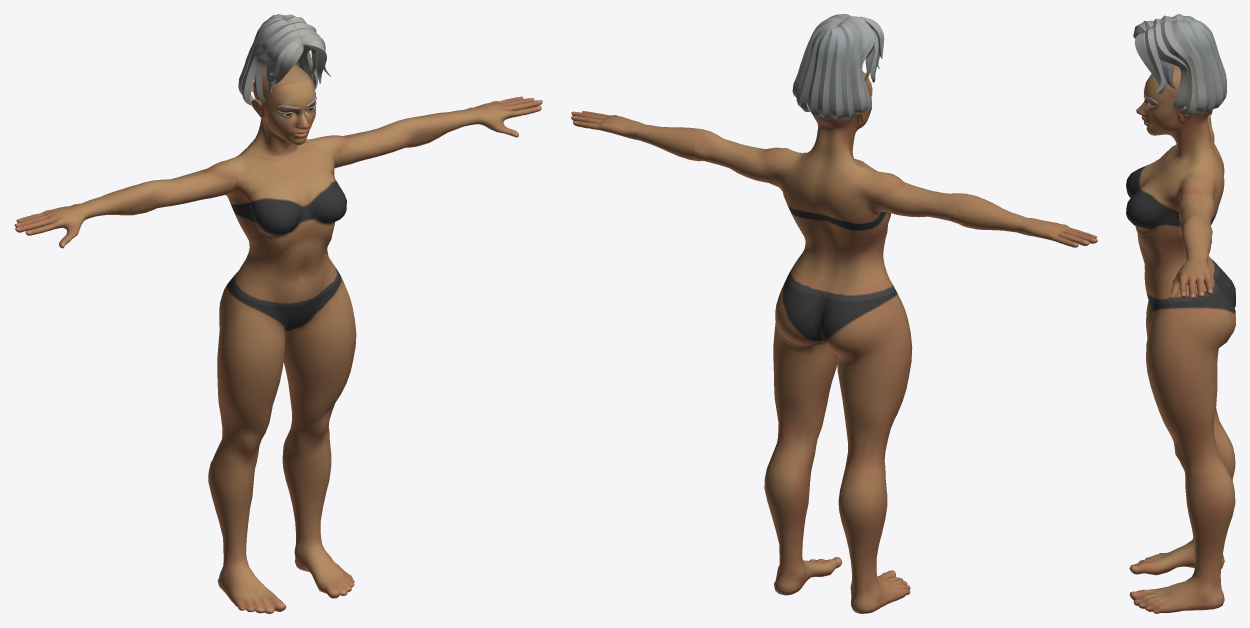
File: character-female-f.glb
The picture shows the model from 3 angles, left to right: view 1: azimuth 30°, elevation 25°; view 2: azimuth 150°, elevation 25°; view 3: azimuth 270°, elevation 25°; orthographic projection.
Visible parts, largest first — view 1: crowd-body; view 2: crowd-body; view 3: crowd-body.
Part boxes in pixels (left/top/right/bottom): crowd-body: left=14, top=14, right=542, bottom=613; crowd-body: left=571, top=14, right=1097, bottom=613; crowd-body: left=1126, top=14, right=1235, bottom=613.
Bounding box in the file's own units: 1.75 × 1.82 × 0.317.
4 materials, 4 textured.
